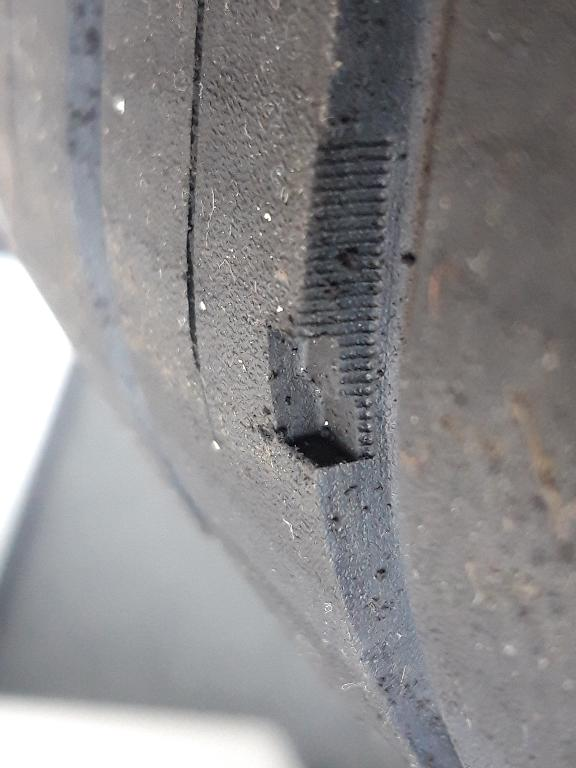temoin:50: (257, 254, 398, 483)
